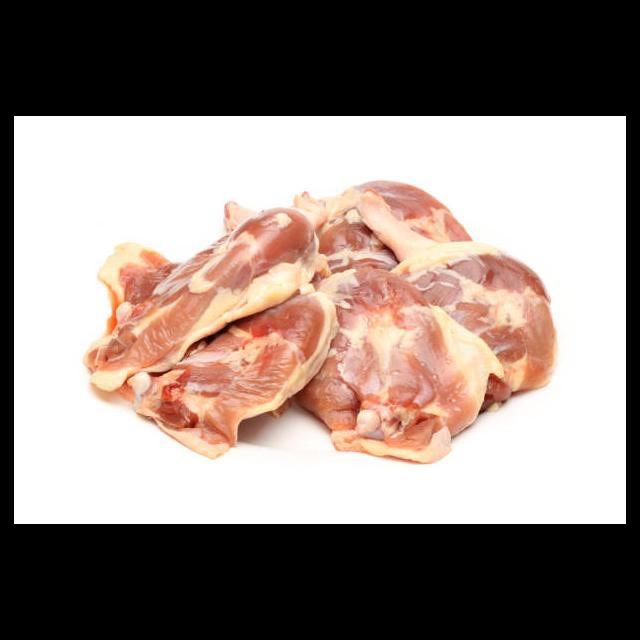chicken: (83, 206, 319, 391), (300, 272, 504, 466), (126, 289, 339, 463), (388, 243, 560, 402), (294, 181, 469, 268)
